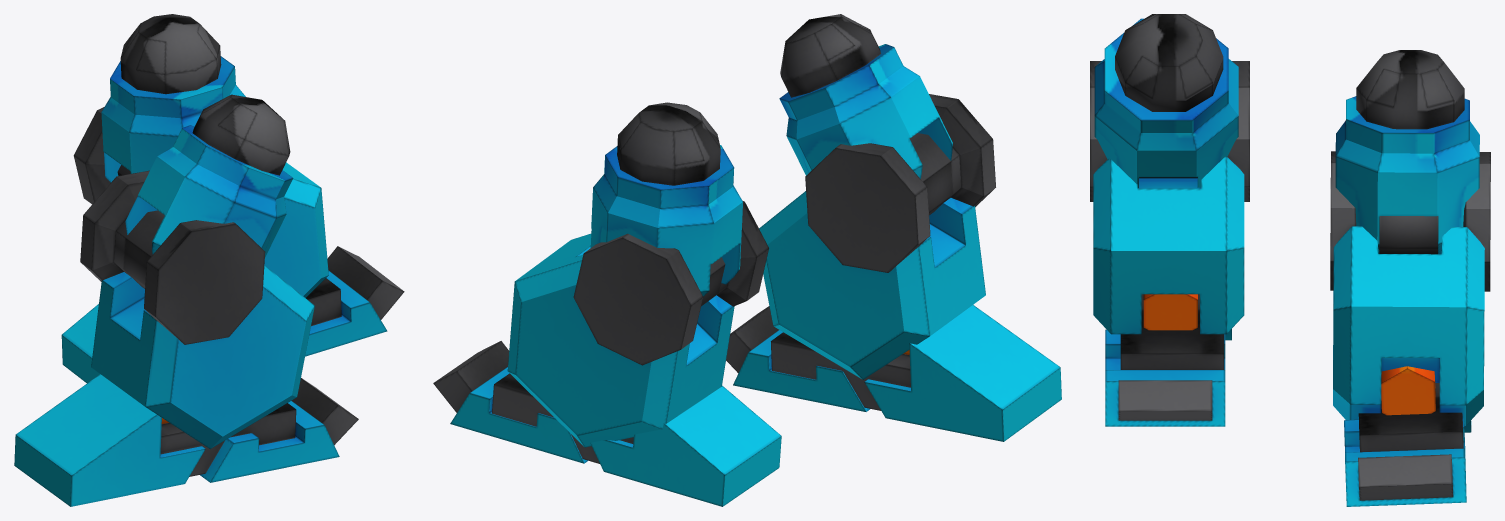
Rendered from Bottom_Idle29.obj.
The picture shows the model from 3 angles, left to right: view 1: azimuth 30°, elevation 25°; view 2: azimuth 150°, elevation 25°; view 3: azimuth 270°, elevation 25°; orthographic projection. The views are drawn at different scales.
Parts seen in each view (by area): view 1: Object013, Object014, Object012, Object009, Object011, Object010; view 2: Object013, Object010, Object014, Object011, Object009, Object012; view 3: Object010, Object013, Object009, Object012, Object014, Object011.
Boxes of the visible parts, box(x1,y1,x2,y2) form: Object013: box(80, 170, 314, 448); Object014: box(14, 374, 358, 506); Object012: box(125, 94, 293, 257); Object009: box(101, 14, 245, 182); Object011: box(61, 246, 404, 383); Object010: box(73, 107, 328, 297); Object013: box(759, 94, 995, 379); Object010: box(507, 201, 768, 447); Object014: box(726, 305, 1061, 441); Object011: box(433, 341, 781, 506); Object009: box(590, 102, 742, 296); Object012: box(779, 14, 952, 178); Object010: box(1330, 151, 1490, 425); Object013: box(1090, 61, 1249, 334); Object009: box(1335, 50, 1479, 254); Object012: box(1094, 14, 1238, 187); Object014: box(1105, 294, 1231, 426); Object011: box(1344, 366, 1471, 506).
Size of the model in its own units: 130 by 101 by 94.65.
